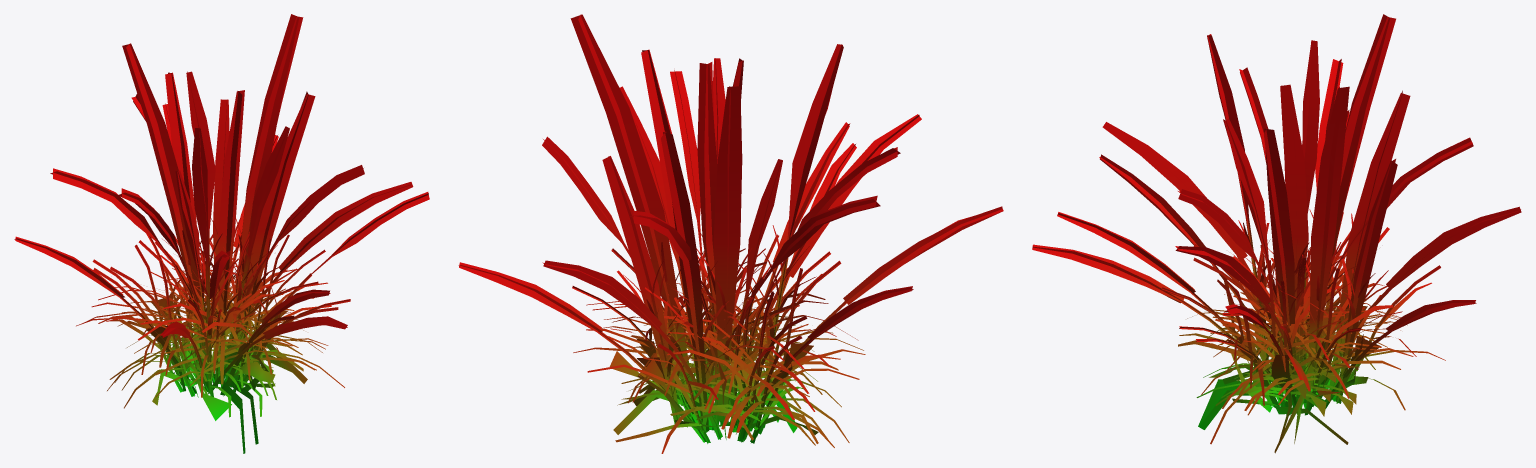
The model's file is Var3_LOD2.fbx.
3 renders of one model, left to right at view 1: azimuth 30°, elevation 25°; view 2: azimuth 150°, elevation 25°; view 3: azimuth 270°, elevation 25°, orthographic. The views are drawn at different scales.
Parts seen in each view (by area): view 1: _f03d_Var3_LOD2; view 2: _f03d_Var3_LOD2; view 3: _f03d_Var3_LOD2.
Boxes of the visible parts, <box> form: _f03d_Var3_LOD2: <box>14,14,429,453</box>; _f03d_Var3_LOD2: <box>458,14,1003,453</box>; _f03d_Var3_LOD2: <box>1032,14,1521,453</box>.
Size of the model in its own units: 54.01 by 52.15 by 57.02.
